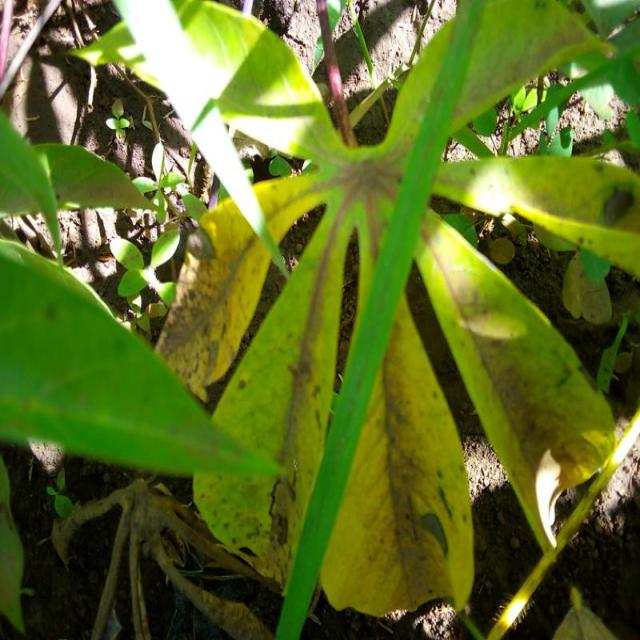cassava leaf: (62, 1, 638, 629), (0, 236, 287, 479)
